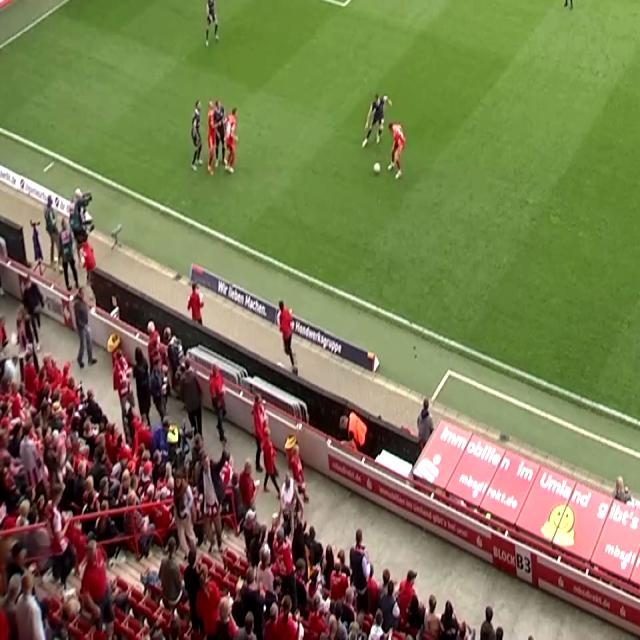ball: (368, 155, 384, 181)
referee: (557, 0, 576, 13)
soccer-player: (360, 84, 386, 152), (188, 92, 205, 176), (200, 0, 226, 53), (387, 116, 407, 184), (226, 100, 242, 174), (206, 99, 216, 178)
